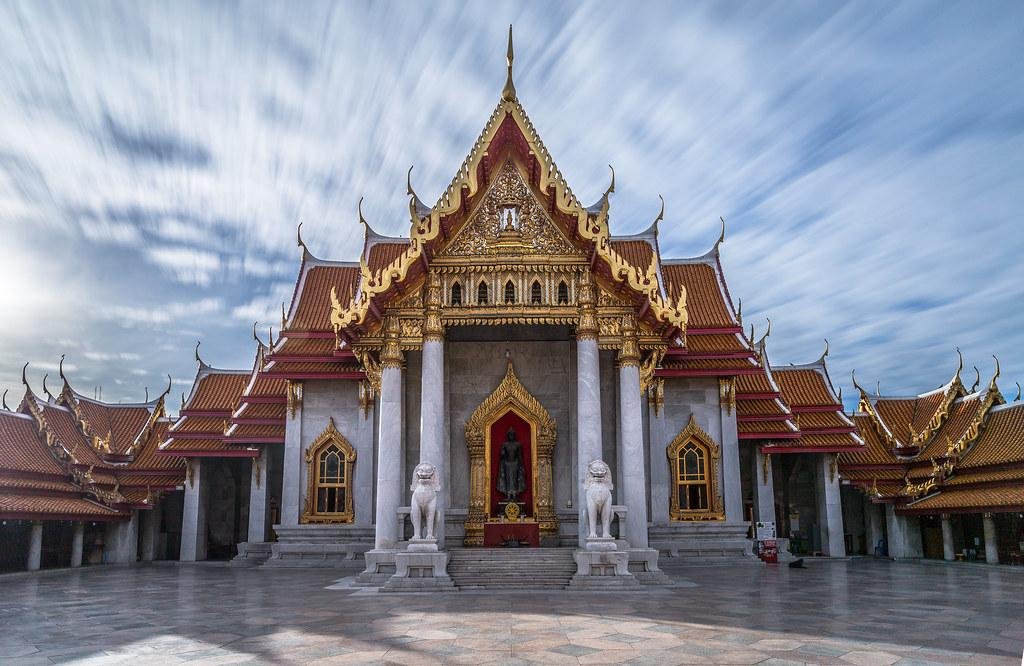temple: (3, 23, 1022, 593)
